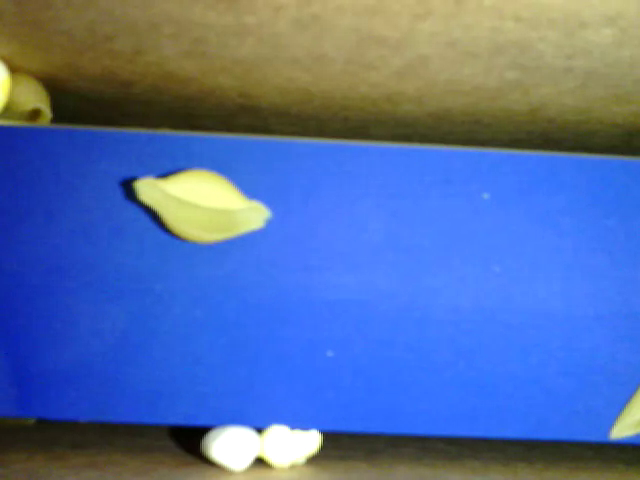penne: (612, 392, 639, 439)
shell: (131, 164, 270, 245), (3, 74, 60, 129)
